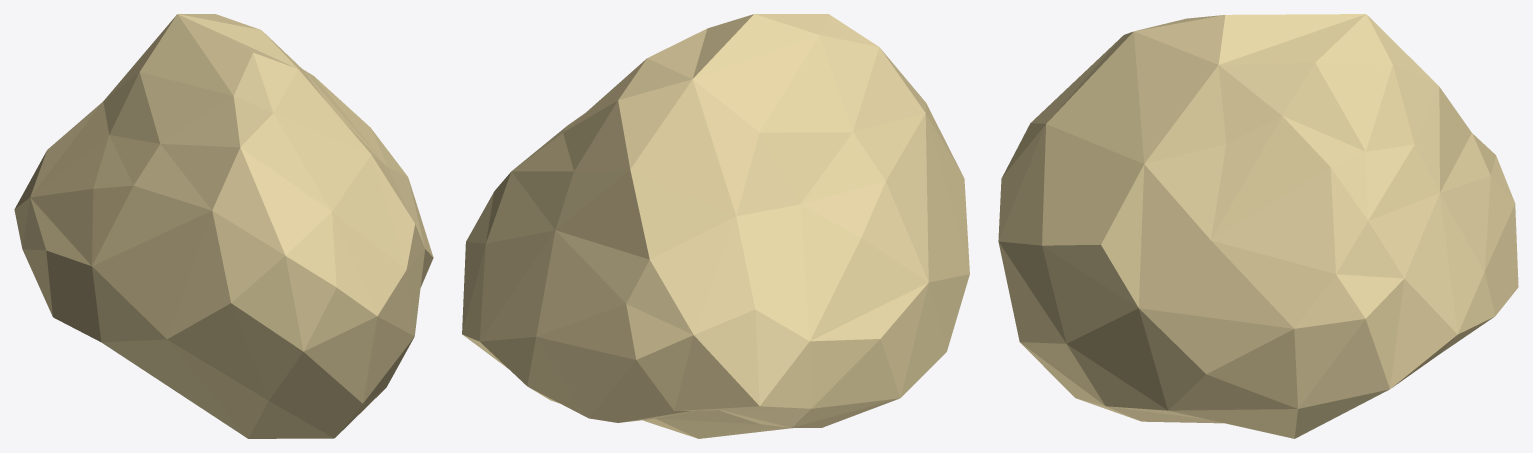
File: Rock (68).fbx
The picture shows the model from 3 angles, left to right: view 1: azimuth 30°, elevation 25°; view 2: azimuth 150°, elevation 25°; view 3: azimuth 270°, elevation 25°; orthographic projection. The views are drawn at different scales.
Visible parts, largest first — view 1: Asteroid67; view 2: Asteroid67; view 3: Asteroid67.
Part boxes in pixels (bbox=[...]): Asteroid67: bbox=[14, 14, 433, 438]; Asteroid67: bbox=[462, 14, 969, 438]; Asteroid67: bbox=[998, 14, 1518, 438].
Size of the model in its own units: 57.99 by 57.52 by 67.55.
